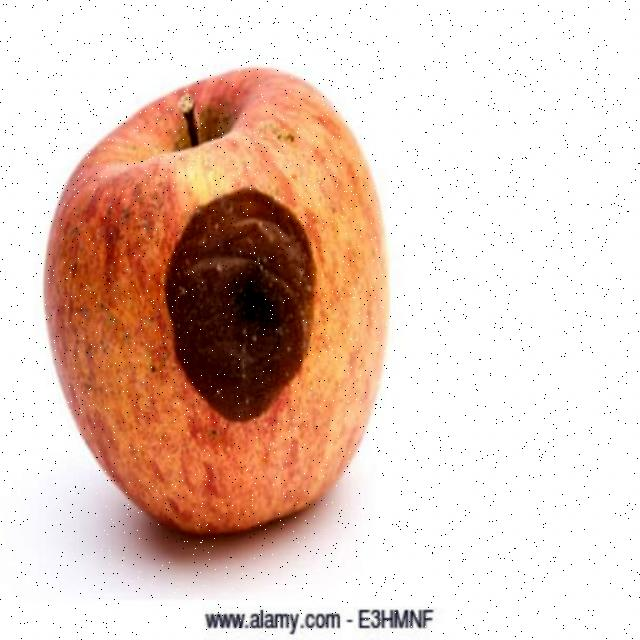ROT: (30, 69, 398, 532)
